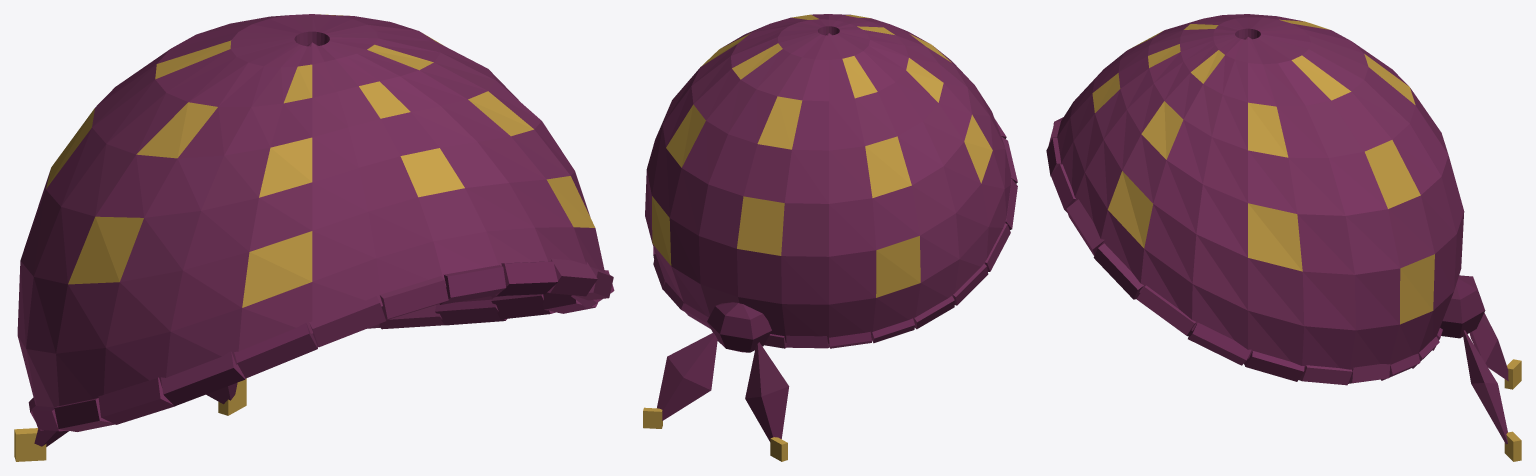
The model's file is wear_headscarf.glb.
3 views of the same model, side by side, from view 1: azimuth 30°, elevation 25°; view 2: azimuth 150°, elevation 25°; view 3: azimuth 270°, elevation 25° (orthographic). The views are drawn at different scales.
Visible parts, largest first — view 1: wear_headscarf; view 2: wear_headscarf; view 3: wear_headscarf.
Boxes of the visible parts, box(x1,y1,x2,y2) form: wear_headscarf: box(14, 14, 614, 461); wear_headscarf: box(643, 14, 1017, 461); wear_headscarf: box(1046, 14, 1521, 461).
Bounding box in the file's own units: 0.5871 × 0.5731 × 0.6386.
